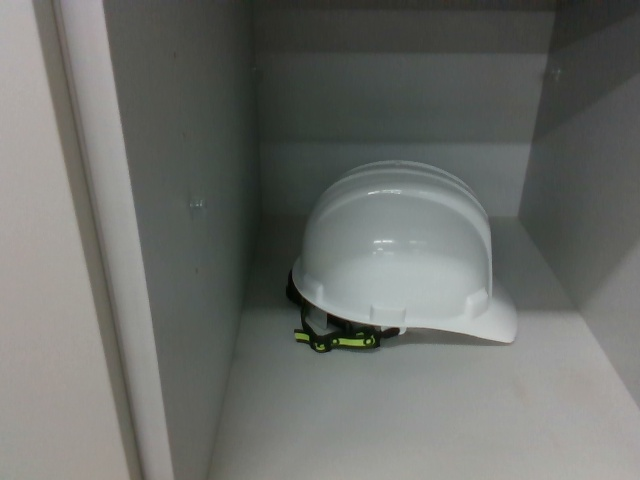helmet: (290, 154, 521, 366)
